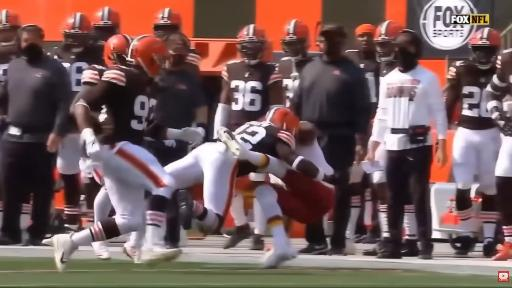Helmet: (127, 35, 169, 77), (469, 28, 501, 68), (374, 21, 404, 62), (237, 24, 267, 64), (62, 13, 93, 51), (281, 20, 309, 58), (93, 7, 120, 43), (265, 107, 299, 135), (153, 8, 181, 38), (104, 35, 131, 66), (0, 10, 21, 46)
Jersey: (94, 66, 155, 145), (222, 61, 282, 130), (446, 60, 495, 130), (47, 46, 104, 97), (48, 46, 104, 93), (234, 122, 295, 158), (345, 50, 380, 105), (278, 57, 313, 106), (293, 139, 335, 175), (487, 49, 511, 106), (0, 46, 17, 85), (90, 106, 109, 134), (81, 65, 106, 85), (82, 65, 106, 85), (380, 62, 396, 81)
Player: (45, 35, 171, 271), (166, 107, 320, 228), (216, 125, 333, 269), (446, 28, 500, 257), (214, 25, 285, 134), (484, 50, 511, 260), (153, 8, 201, 76), (345, 24, 379, 118), (278, 20, 313, 106), (278, 20, 312, 106), (57, 118, 81, 230), (81, 156, 110, 223), (0, 10, 21, 85), (0, 10, 21, 83), (372, 171, 389, 237), (92, 7, 120, 45)
